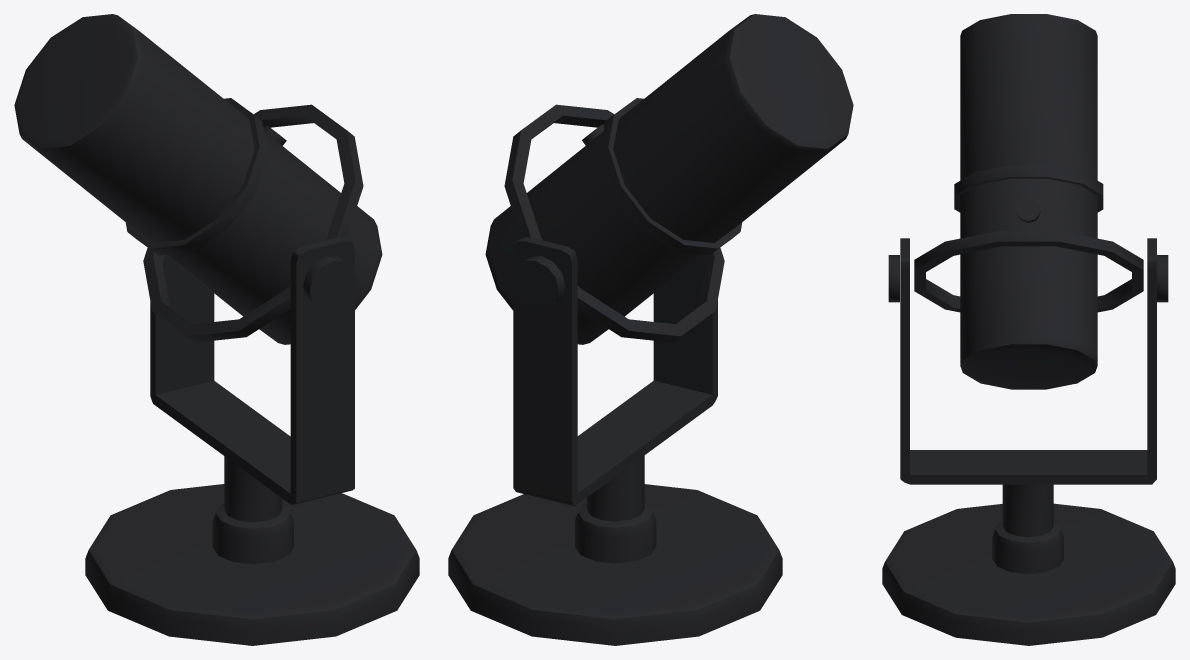
The model's file is mic_gamer_uso_libre_comercial.glb.
3 views of the same model, side by side, from view 1: azimuth 30°, elevation 25°; view 2: azimuth 150°, elevation 25°; view 3: azimuth 270°, elevation 25° (orthographic). The views are drawn at different scales.
Parts seen in each view (by area): view 1: Object_2; view 2: Object_2; view 3: Object_2.
Boxes of the visible parts, left/top/right/bottom form: Object_2: left=14, top=14, right=419, bottom=645; Object_2: left=448, top=14, right=853, bottom=645; Object_2: left=882, top=14, right=1175, bottom=645.
Size of the model in its own units: 0.1809 by 0.2755 by 0.1425.
1 material, 1 textured.
